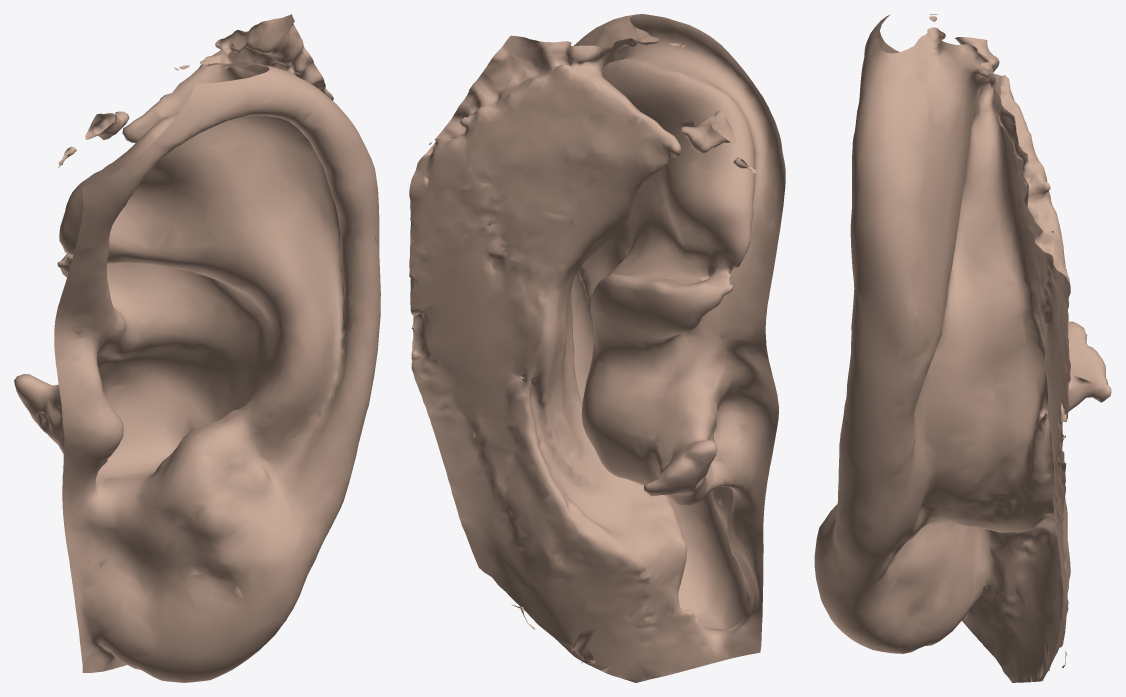
The model's file is ear-01.glb.
3 views of the same model, side by side, from view 1: azimuth 30°, elevation 25°; view 2: azimuth 150°, elevation 25°; view 3: azimuth 270°, elevation 25° (orthographic). The views are drawn at different scales.
Visible parts, largest first — view 1: ear-01; view 2: ear-01; view 3: ear-01.
Part boxes in pixels (x1,y1,x2,y2): ear-01: (14,14,380,682); ear-01: (409,14,785,682); ear-01: (814,14,1111,682).
Size of the model in its own units: 1.61 by 3 by 1.22.
